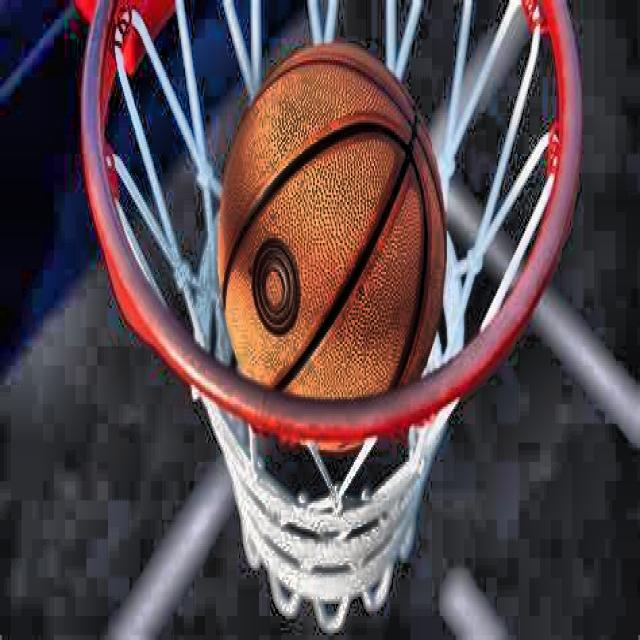board: (217, 42, 449, 451)
